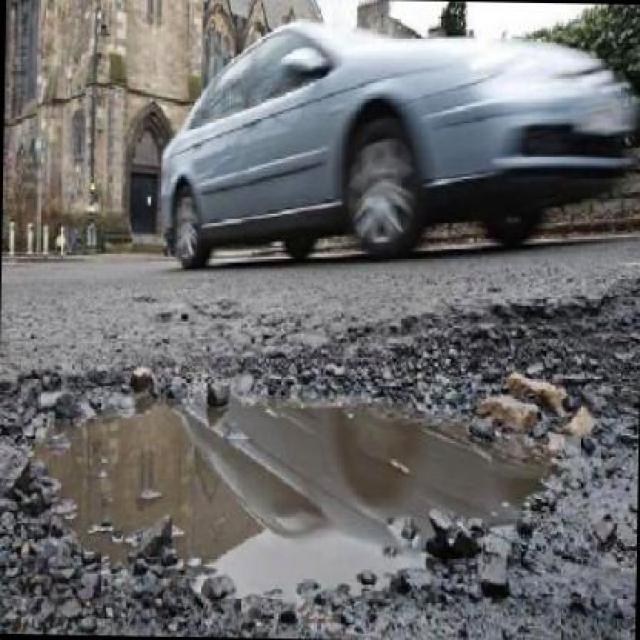pothole: (2, 329, 576, 617)
